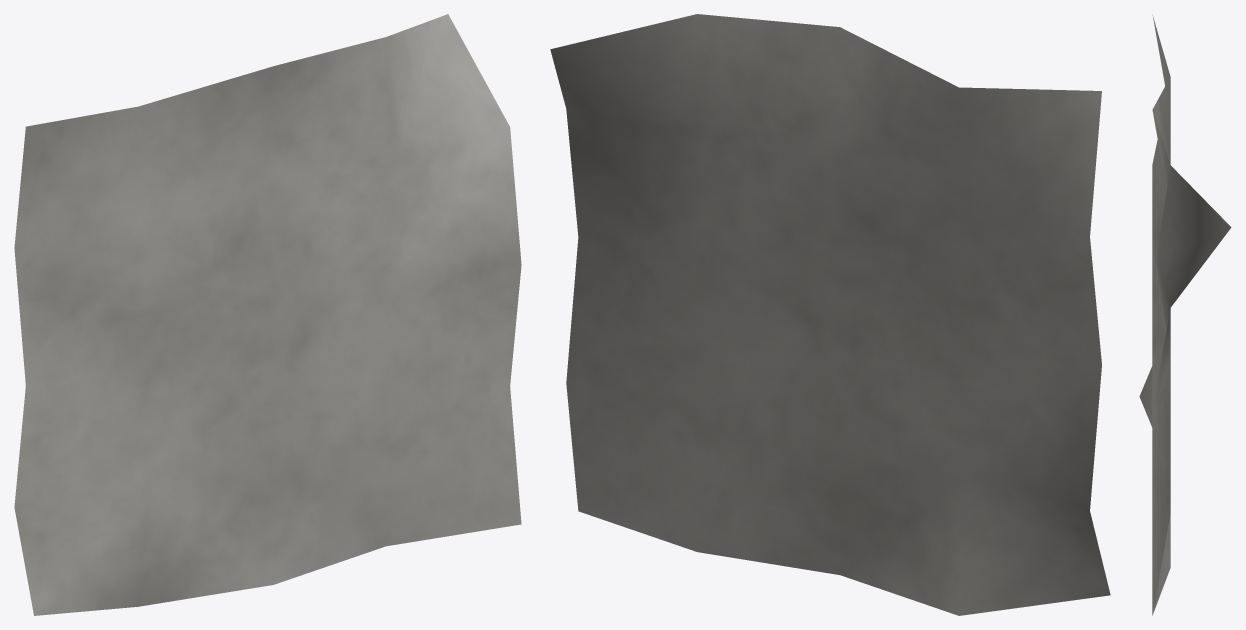
The model's file is note.fbx.
3 renders of one model, left to right at view 1: azimuth 30°, elevation 25°; view 2: azimuth 150°, elevation 25°; view 3: azimuth 270°, elevation 25°, orthographic. The views are drawn at different scales.
Visible parts, largest first — view 1: Plane; view 2: Plane; view 3: Plane.
Part boxes in pixels (x1=…): Plane: x1=14, y1=14, x2=521, y2=615; Plane: x1=550, y1=14, x2=1110, y2=615; Plane: x1=1139, y1=15, x2=1231, y2=615.
Bounding box in the file's own units: 31.49 × 6.4 × 31.49.
